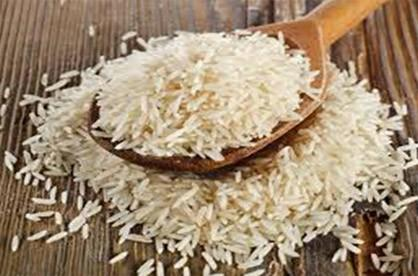WhiteRice: (11, 30, 418, 276)
